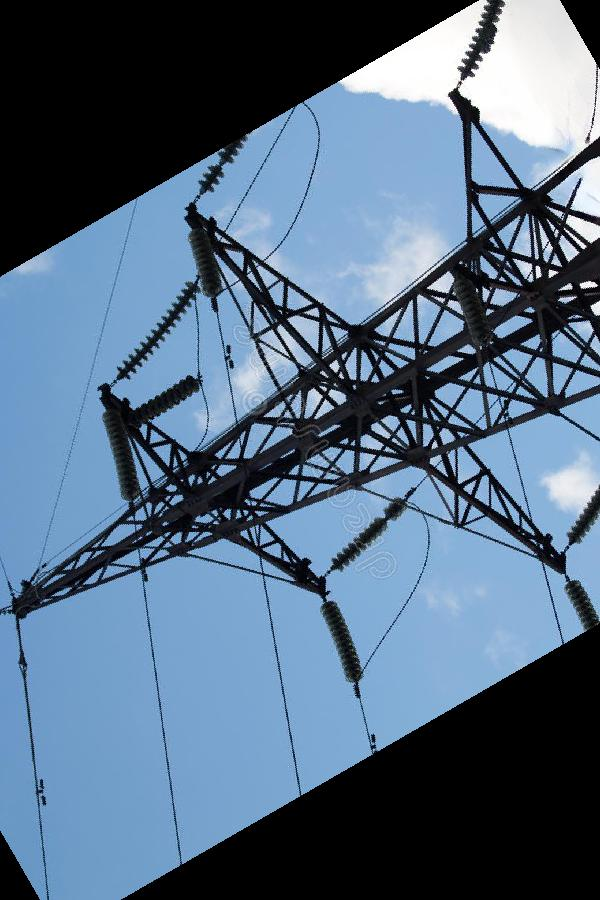insulator: (113, 277, 201, 383), (327, 494, 412, 575), (452, 1, 510, 81), (317, 596, 367, 688), (99, 405, 142, 505), (129, 373, 203, 427), (451, 268, 496, 351), (194, 130, 250, 196), (186, 224, 228, 301), (558, 484, 600, 547), (559, 576, 600, 636)
insulator_stringdrop: (206, 149, 236, 179), (372, 506, 399, 533)
